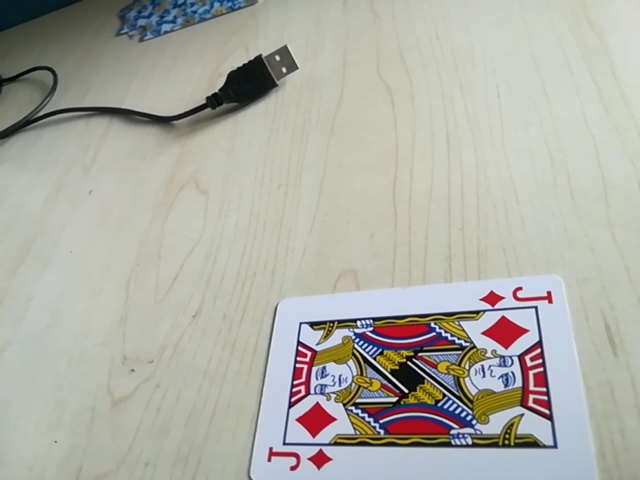fk j: (482, 282, 557, 312), (264, 446, 334, 475)
